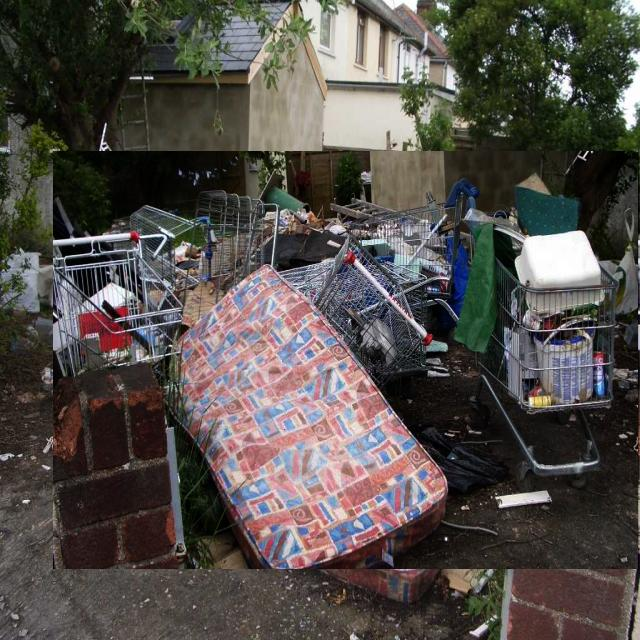dumping: (53, 151, 640, 569)
